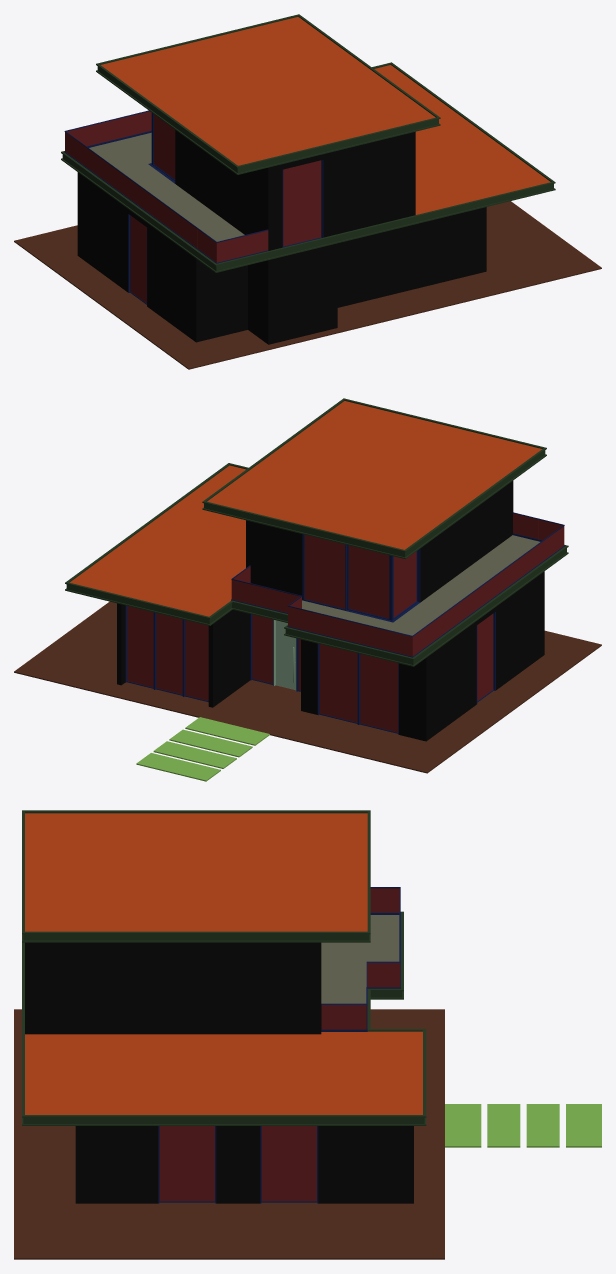
Rendered from House_V4.fbx.
3 views of the same model, one above another, from view 1: azimuth 30°, elevation 25°; view 2: azimuth 150°, elevation 25°; view 3: azimuth 270°, elevation 25° (orthographic). The views are drawn at different scales.
Parts seen in each view (by area): view 1: Wall_Exterior, Roof, Floor_Exterior, Window_Glass, Border, Floor_Interior, Window_Frame; view 2: Roof, Window_Glass, Wall_Exterior, Floor_Exterior, Border, Window_Frame, Floor_Steps, Floor_Interior, Door_Wing; view 3: Roof, Wall_Exterior, Floor_Exterior, Border, Window_Glass, Floor_Steps, Floor_Interior, Window_Frame.
Boxes of the visible parts, left/top/right/bottom form: Wall_Exterior: left=77, top=130, right=486, bottom=344; Roof: left=101, top=17, right=550, bottom=214; Floor_Exterior: left=14, top=201, right=601, bottom=369; Window_Glass: left=65, top=111, right=321, bottom=303; Border: left=61, top=14, right=555, bottom=272; Floor_Interior: left=89, top=132, right=244, bottom=241; Window_Frame: left=64, top=110, right=323, bottom=306; Roof: left=70, top=401, right=541, bottom=616; Window_Glass: left=127, top=513, right=564, bottom=732; Wall_Exterior: left=117, top=481, right=544, bottom=741; Floor_Exterior: left=14, top=601, right=601, bottom=773; Border: left=65, top=398, right=568, bottom=666; Window_Frame: left=125, top=512, right=565, bottom=734; Floor_Steps: left=136, top=717, right=269, bottom=781; Floor_Interior: left=276, top=535, right=539, bottom=689; Door_Wing: left=275, top=620, right=295, bottom=689; Roof: left=25, top=813, right=422, bottom=1114; Wall_Exterior: left=25, top=942, right=413, bottom=1203; Floor_Exterior: left=14, top=1009, right=444, bottom=1259; Border: left=22, top=810, right=426, bottom=1125; Window_Glass: left=159, top=888, right=400, bottom=1201; Floor_Steps: left=445, top=1104, right=601, bottom=1147; Floor_Interior: left=321, top=915, right=399, bottom=1003; Window_Frame: left=158, top=887, right=400, bottom=1203.
Size of the model in its own units: 754 by 327 by 753.
